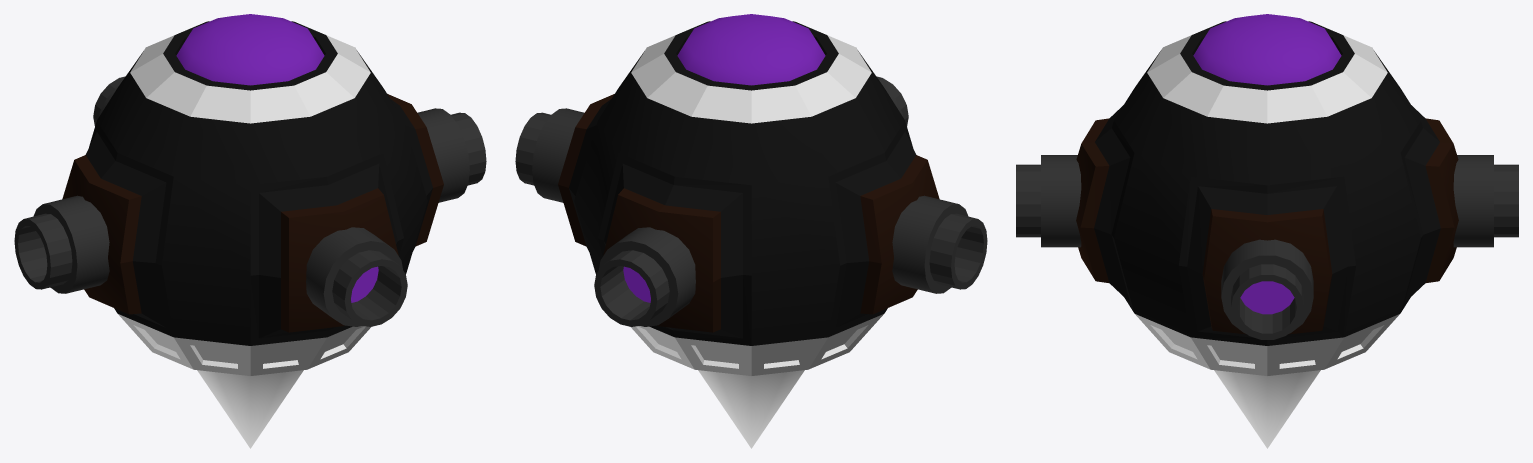
The model's file is Inimigo01_Mapa08_DBZ.FBX.
3 views of the same model, side by side, from view 1: azimuth 30°, elevation 25°; view 2: azimuth 150°, elevation 25°; view 3: azimuth 270°, elevation 25° (orthographic).
Visible parts, largest first — view 1: Sphere002, Sphere003, Cylinder001, Cylinder003, Cylinder004, Cylinder002; view 2: Sphere002, Sphere003, Cylinder002, Cylinder003, Cylinder004, Cylinder001; view 3: Sphere002, Sphere003, Cylinder004, Cylinder002, Cylinder001.
Part boxes in pixels (x1=…): Sphere002: x1=62, y1=21, x2=443, y2=448; Sphere003: x1=176, y1=14, x2=324, y2=85; Cylinder001: x1=306, y1=227, x2=407, y2=326; Cylinder003: x1=14, y1=195, x2=109, y2=293; Cylinder004: x1=417, y1=108, x2=486, y2=202; Cylinder002: x1=93, y1=76, x2=125, y2=125; Sphere002: x1=558, y1=21, x2=939, y2=448; Sphere003: x1=677, y1=14, x2=825, y2=85; Cylinder002: x1=594, y1=227, x2=695, y2=326; Cylinder003: x1=892, y1=195, x2=987, y2=293; Cylinder004: x1=515, y1=108, x2=584, y2=202; Cylinder001: x1=876, y1=76, x2=908, y2=125; Sphere002: x1=1076, y1=21, x2=1458, y2=448; Sphere003: x1=1193, y1=14, x2=1341, y2=85; Cylinder004: x1=1221, y1=239, x2=1313, y2=339; Cylinder002: x1=1453, y1=155, x2=1518, y2=247; Cylinder001: x1=1016, y1=155, x2=1081, y2=247.
Bounding box in the file's own units: 277 × 257 × 277.
